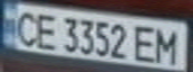2: (109, 20, 133, 61)
3: (57, 15, 81, 54), (75, 16, 96, 55)
5: (90, 18, 112, 57)
C: (9, 7, 42, 47)
E: (130, 22, 160, 64), (30, 10, 60, 51)
M: (151, 25, 187, 65)
